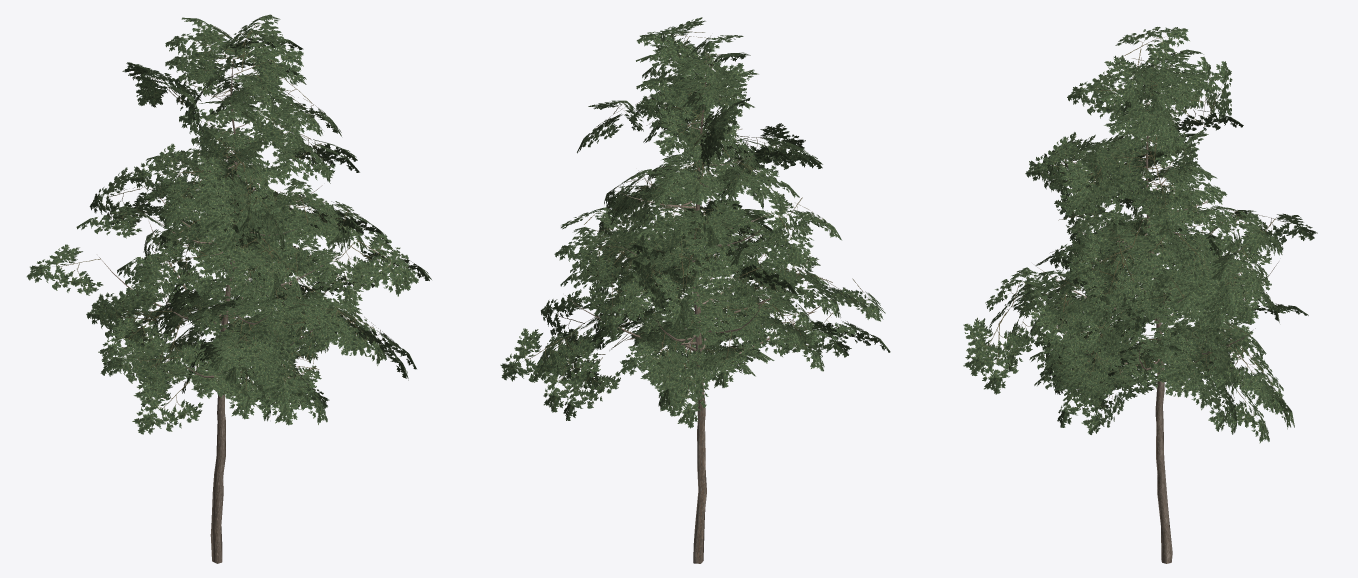
File: maple-a.glb
The picture shows the model from 3 angles, left to right: view 1: azimuth 30°, elevation 25°; view 2: azimuth 150°, elevation 25°; view 3: azimuth 270°, elevation 25°; orthographic projection. The views are drawn at different scales.
Parts seen in each view (by area): view 1: maple-a; view 2: maple-a; view 3: maple-a.
Boxes of the visible parts, left/top/right/bottom form: maple-a: left=26, top=14, right=431, bottom=563; maple-a: left=500, top=17, right=890, bottom=563; maple-a: left=963, top=26, right=1317, bottom=563.
Bounding box in the file's own units: 8.34 × 13 × 9.25.
Materials: 2 (2 with a texture image).
